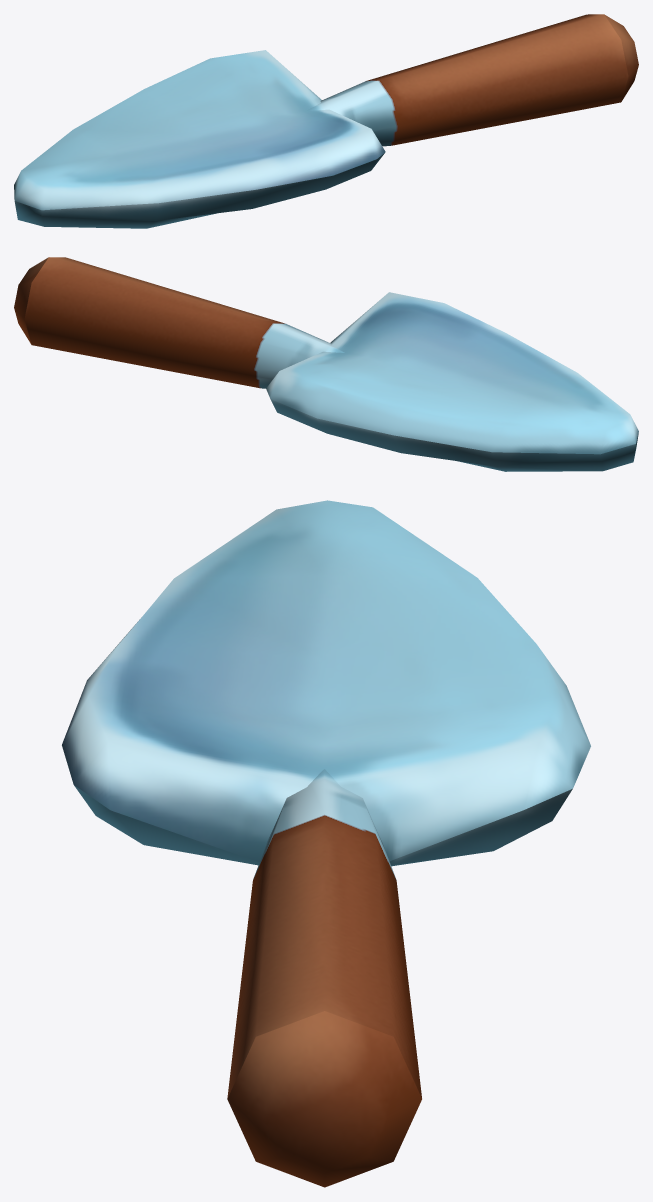
Rendered from S_GardenThing_04.fbx.
3 renders of one model, top to bottom at view 1: azimuth 30°, elevation 25°; view 2: azimuth 150°, elevation 25°; view 3: azimuth 270°, elevation 25°, orthographic. The views are drawn at different scales.
Visible parts, largest first — view 1: S_GardenThing_04; view 2: S_GardenThing_04; view 3: S_GardenThing_04.
Boxes of the visible parts, x1=… form: S_GardenThing_04: x1=14, y1=14, x2=638, y2=228; S_GardenThing_04: x1=14, y1=257, x2=638, y2=471; S_GardenThing_04: x1=62, y1=500, x2=590, y2=1187.
Size of the model in its own units: 70.95 by 9.86 by 26.79.
